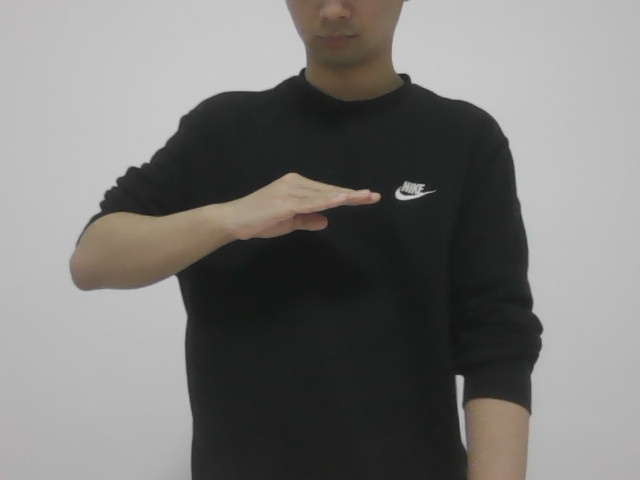late/night: (244, 169, 392, 248)
